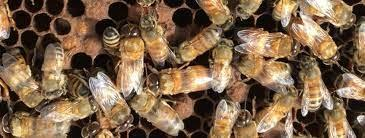worker-bee: (128, 88, 183, 135), (0, 52, 44, 107), (139, 6, 175, 65), (116, 24, 144, 96), (256, 87, 297, 136), (299, 56, 332, 115), (147, 65, 212, 94), (234, 28, 297, 57), (2, 111, 70, 137), (176, 25, 222, 63), (298, 0, 355, 27), (40, 97, 97, 122), (41, 42, 65, 98), (211, 38, 232, 92)
